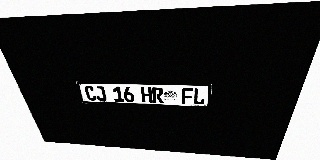plate: (76, 81, 212, 108)
